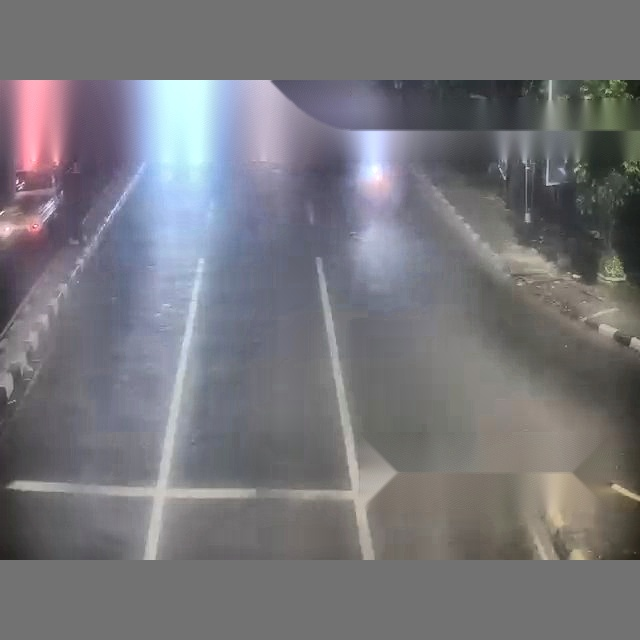Truk: (0, 80, 74, 242)
